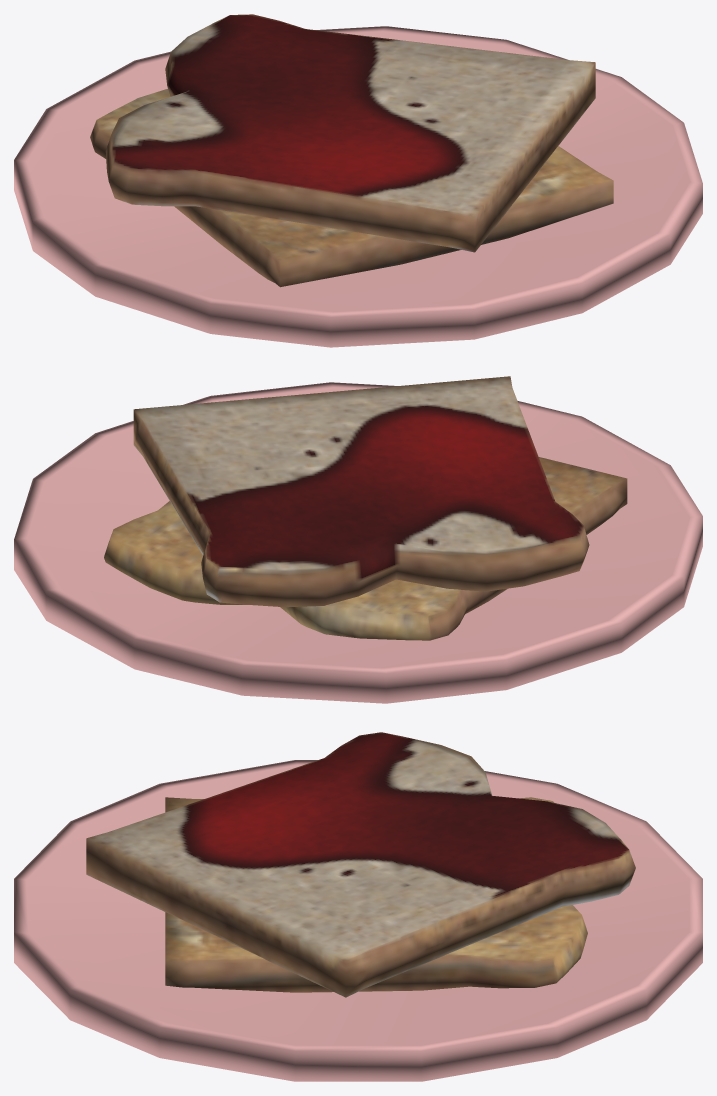
The model's file is bread.fbx.
The picture shows the model from 3 angles, top to bottom: view 1: azimuth 30°, elevation 25°; view 2: azimuth 150°, elevation 25°; view 3: azimuth 270°, elevation 25°; orthographic projection.
Parts seen in each view (by area): view 1: pCube3, pCube4, pCube2; view 2: pCube3, pCube4, pCube2; view 3: pCube3, pCube4, pCube2.
Boxes of the visible parts, x1,y1,x2,y2 form: pCube3: [14, 26, 702, 347]; pCube4: [105, 14, 595, 252]; pCube2: [90, 88, 613, 287]; pCube3: [14, 382, 702, 703]; pCube4: [133, 376, 589, 607]; pCube2: [104, 457, 627, 640]; pCube3: [14, 760, 702, 1081]; pCube4: [86, 732, 635, 997]; pCube2: [165, 797, 587, 992].
Size of the model in its own units: 3.41 by 0.6388 by 3.41.
Materials: 1 (1 with a texture image).
